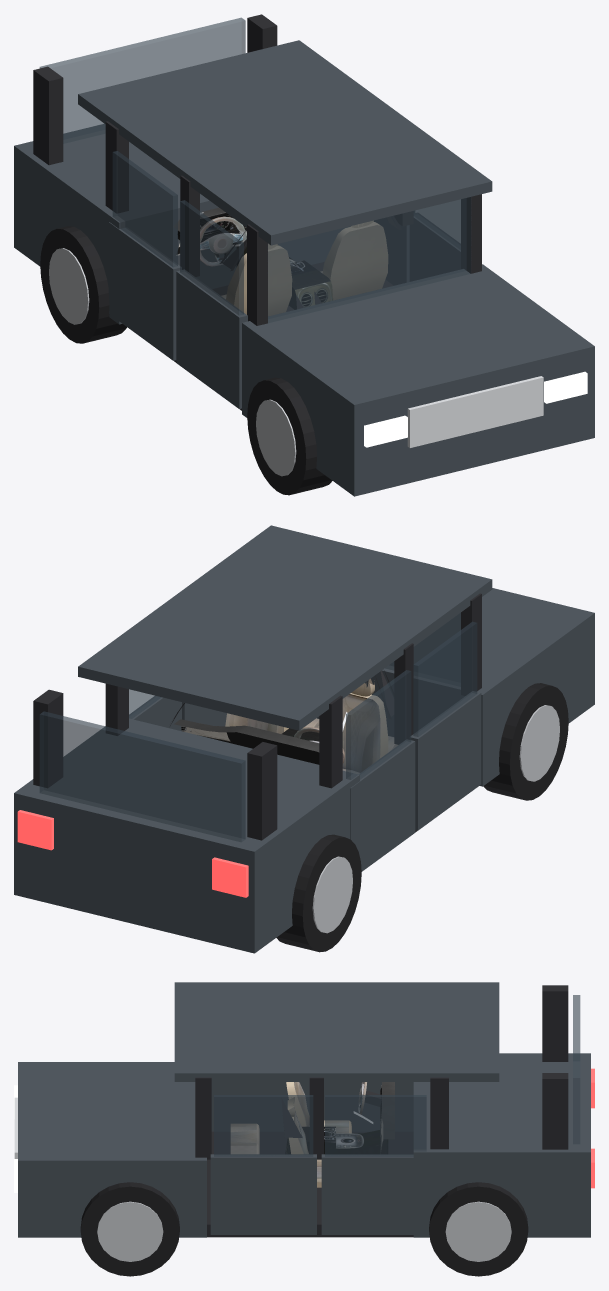
The model's file is rangerover.glb.
The picture shows the model from 3 angles, top to bottom: view 1: azimuth 30°, elevation 25°; view 2: azimuth 150°, elevation 25°; view 3: azimuth 270°, elevation 25°; orthographic projection. The views are drawn at different scales.
Parts seen in each view (by area): view 1: rr_lower_front, rr_roof, rr_lower_rear, rr_windshield, mercedes_interior_template, rr_rear_glass, door_rl_panel, door_fl_panel, rr_grille, door_rl_glass, door_fl_glass, wheel_fl (+14 smaller); view 2: rr_lower_rear, rr_roof, rr_rear_glass, rr_lower_front, mercedes_interior_template, door_fl_panel, door_rl_panel, door_fl_glass, door_rl_glass, wheel_rl, wheel_fl, rr_dpillar_-1 (+12 smaller); view 3: rr_roof, rr_lower_front, rr_lower_rear, door_rr_panel, door_fr_panel, door_rr_glass, door_fr_glass, mercedes_interior_template, wheel_fr, wheel_rr, door_fl_panel, wheel_fr_rim (+9 smaller).
Part boxes in pixels (bbox=[...]): rr_lower_front: bbox=[242, 264, 594, 496]; rr_roof: bbox=[78, 40, 492, 245]; rr_lower_rear: bbox=[14, 124, 350, 324]; rr_windshield: bbox=[267, 197, 471, 322]; mercedes_interior_template: bbox=[173, 207, 401, 315]; rr_rear_glass: bbox=[39, 17, 245, 143]; door_rl_panel: bbox=[108, 222, 181, 360]; door_fl_panel: bbox=[176, 269, 247, 408]; rr_grille: bbox=[407, 376, 543, 447]; door_rl_glass: bbox=[112, 151, 177, 267]; door_fl_glass: bbox=[180, 200, 243, 315]; wheel_fl: bbox=[247, 377, 332, 495]; rr_lower_rear: bbox=[14, 718, 359, 953]; rr_roof: bbox=[78, 525, 492, 730]; rr_rear_glass: bbox=[39, 711, 245, 841]; rr_lower_front: bbox=[317, 588, 594, 786]; mercedes_interior_template: bbox=[170, 670, 397, 773]; door_fl_panel: bbox=[410, 691, 481, 830]; door_rl_panel: bbox=[350, 739, 415, 871]; door_fl_glass: bbox=[413, 621, 477, 736]; door_rl_glass: bbox=[346, 670, 411, 779]; wheel_rl: bbox=[276, 834, 361, 952]; wheel_fl: bbox=[483, 683, 568, 800]; rr_dpillar_-1: bbox=[247, 742, 277, 840]; rr_roof: bbox=[174, 982, 499, 1081]; rr_lower_front: bbox=[18, 1062, 206, 1237]; rr_lower_rear: bbox=[413, 1053, 590, 1237]; door_rr_panel: bbox=[321, 1154, 430, 1234]; door_fr_panel: bbox=[210, 1154, 316, 1234]; door_rr_glass: bbox=[325, 1095, 426, 1156]; door_fr_glass: bbox=[214, 1095, 313, 1156]; mercedes_interior_template: bbox=[231, 1082, 394, 1187]; wheel_fr: bbox=[80, 1182, 179, 1276]; wheel_rr: bbox=[429, 1182, 528, 1276]; door_fl_panel: bbox=[211, 1082, 309, 1131]; wheel_fr_rim: bbox=[97, 1201, 163, 1261].
Size of the model in its own units: 2.18 by 1.82 by 4.92.
11 materials, 1 textured.
